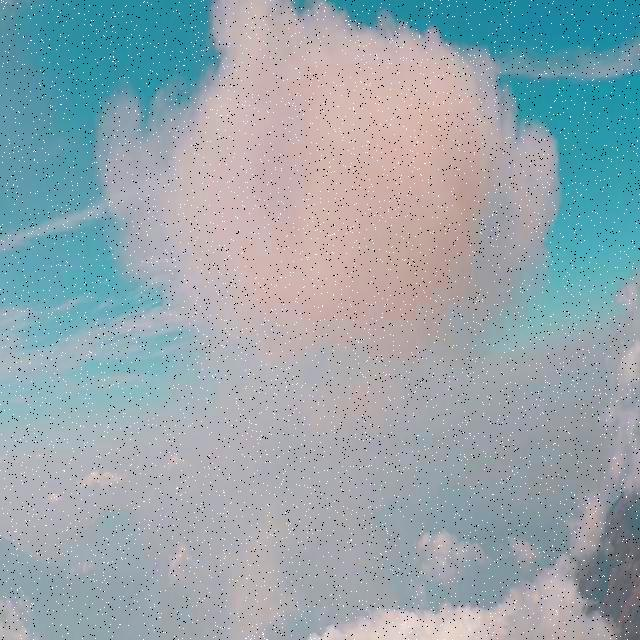Plume: (90, 0, 524, 336)
